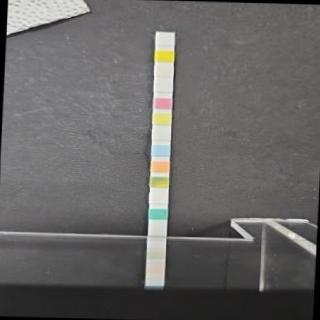mark: (152, 112, 170, 126), (148, 192, 168, 204), (148, 176, 168, 188), (155, 49, 173, 62), (149, 208, 167, 220), (151, 160, 169, 172), (151, 144, 169, 156), (152, 128, 170, 140), (154, 80, 172, 92), (154, 64, 172, 76), (154, 97, 170, 109), (156, 33, 173, 44)
